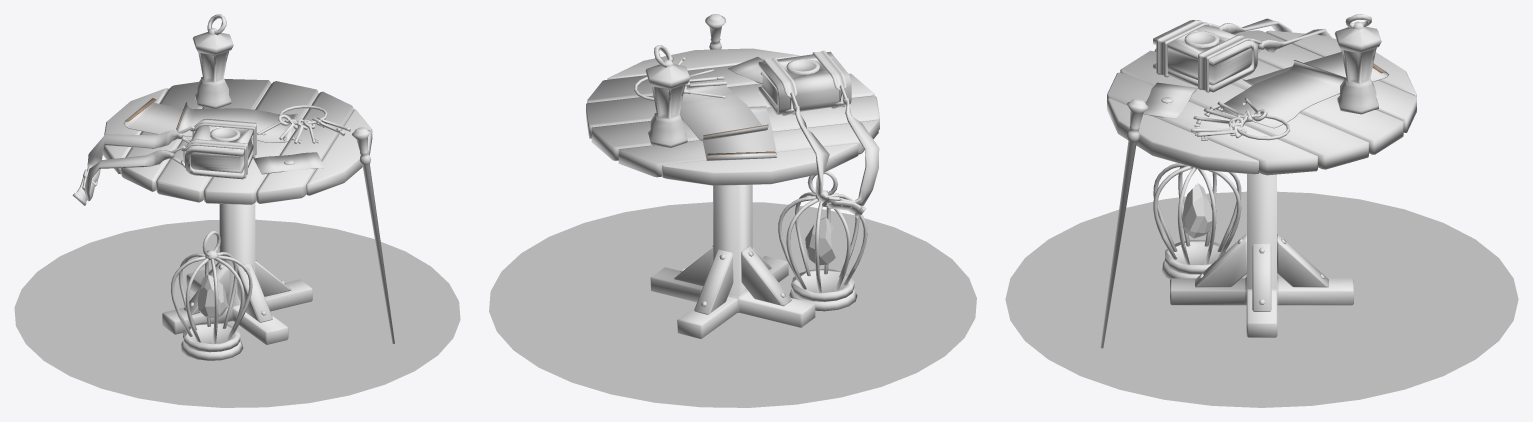
Rendered from Book.fbx.
The picture shows the model from 3 angles, left to right: view 1: azimuth 30°, elevation 25°; view 2: azimuth 150°, elevation 25°; view 3: azimuth 270°, elevation 25°; orthographic projection. The views are drawn at different scales.
Parts seen in each view (by area): view 1: carpet, Cylinder.001, Cylinder, Letters, Straps.001, Lantern, Book_Cover, cane, Straps, Book_Pages, crystal; view 2: carpet, Cylinder.001, Letters, Cylinder, Lantern, Book_Cover, Straps.001, Straps, crystal, cane, Key_Gold; view 3: carpet, Cylinder.001, Letters, Cylinder, Lantern, Book_Cover, cane, Straps, Book_Pages, crystal, Straps.001, Key_Gold.
Part boxes in pixels (box(x1,y1,x2,y2)): carpet: box(14, 219, 460, 407); Cylinder.001: box(102, 79, 372, 344); Cylinder: box(170, 230, 252, 360); Letters: box(123, 98, 324, 174); Straps.001: box(72, 130, 183, 205); Lantern: box(192, 14, 233, 108); Book_Cover: box(185, 118, 256, 179); cane: box(352, 127, 394, 343); Straps: box(170, 119, 256, 178); Book_Pages: box(190, 139, 253, 173); crystal: box(197, 274, 227, 318); carpet: box(489, 202, 976, 407); Cylinder.001: box(586, 48, 879, 338); Letters: box(679, 56, 777, 160); Cylinder: box(778, 171, 867, 311); Lantern: box(645, 45, 690, 147); Book_Cover: box(758, 51, 851, 114); Straps.001: box(793, 98, 879, 218); Straps: box(763, 50, 847, 115); crystal: box(805, 217, 838, 265); cane: box(705, 14, 726, 212); Key_Gold: box(786, 59, 819, 74); carpet: box(1005, 191, 1518, 407); Cylinder.001: box(1107, 30, 1416, 337); Letters: box(1143, 52, 1389, 128); Cylinder: box(1153, 163, 1241, 278); Lantern: box(1334, 14, 1381, 114); Book_Cover: box(1153, 20, 1257, 92); cane: box(1100, 99, 1148, 348); Straps: box(1156, 20, 1262, 92); Book_Pages: box(1167, 48, 1251, 85); crystal: box(1182, 183, 1212, 238); Straps.001: box(1219, 18, 1331, 52); Key_Gold: box(1184, 31, 1219, 47).
Size of the model in its own units: 1378 by 889 by 1378.
